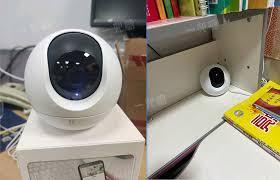maru: (17, 28, 127, 122), (191, 64, 236, 98)
